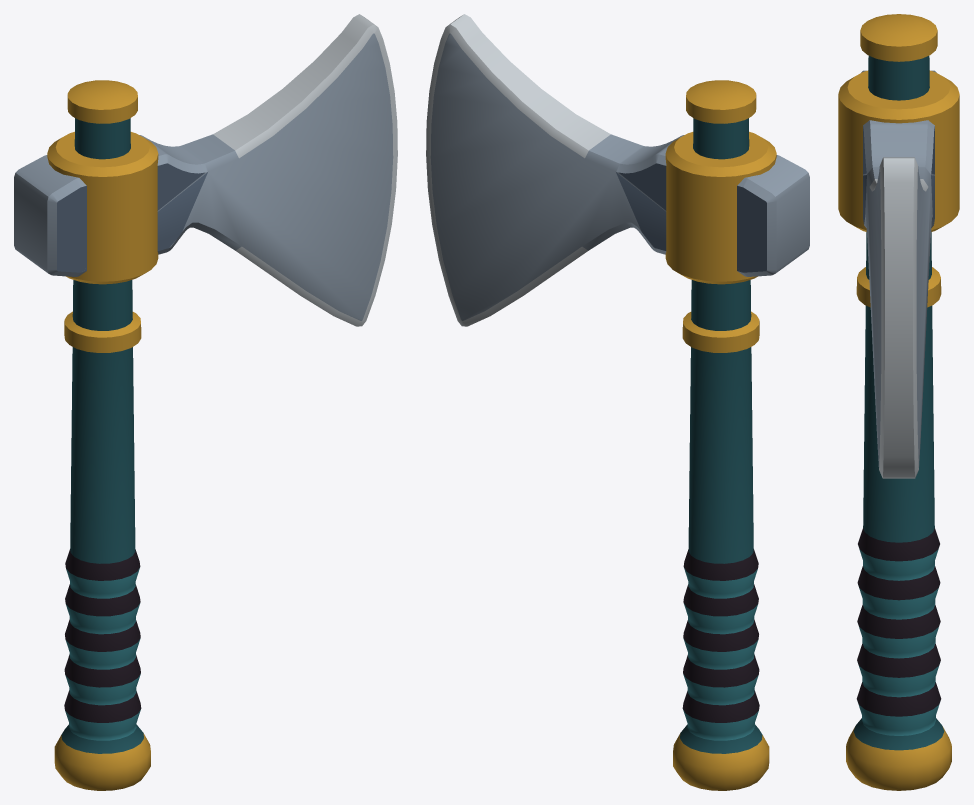
File: Axe_12.glb
3 views of the same model, side by side, from view 1: azimuth 30°, elevation 25°; view 2: azimuth 150°, elevation 25°; view 3: azimuth 270°, elevation 25° (orthographic). The views are drawn at different scales.
Visible parts, largest first — view 1: Axe_12; view 2: Axe_12; view 3: Axe_12.
Boxes of the visible parts, x1,y1,x2,y2 form: Axe_12: (14, 14, 397, 790); Axe_12: (426, 14, 809, 790); Axe_12: (838, 14, 959, 790).
Bounding box in the file's own units: 2.45 × 4.48 × 0.654.
